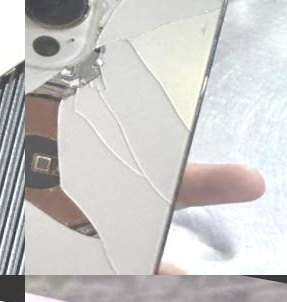physical_damage: (50, 48, 200, 206), (25, 82, 123, 241), (87, 0, 222, 71), (25, 275, 236, 302), (89, 236, 158, 275), (25, 57, 67, 99), (25, 295, 61, 302)
